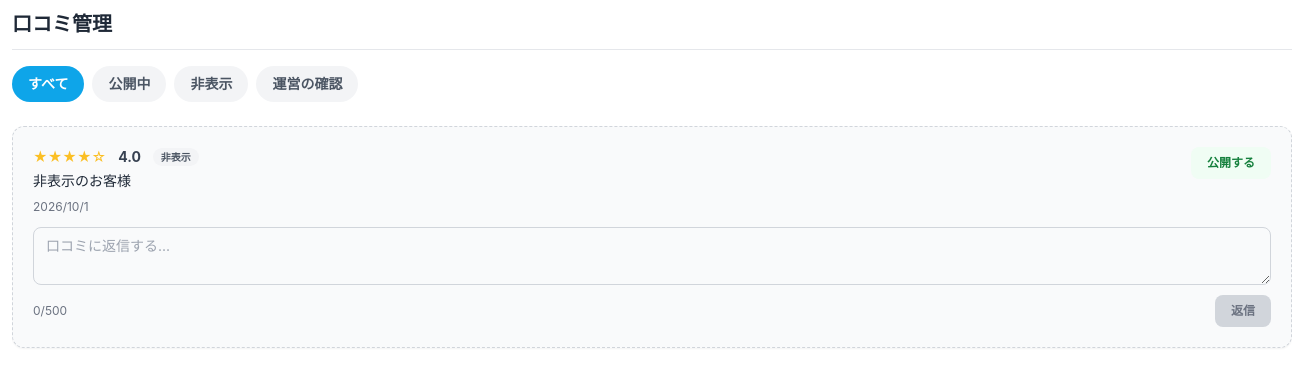
公開・非表示の切り替え › 公開すると読み直し、運営の審査が始まっていなければ『公開しました』
What coordinates should you click on to do the following:
click the button "公開する"
I would click on:
 (1231, 163)
Its box is [1191,147,1271,179].
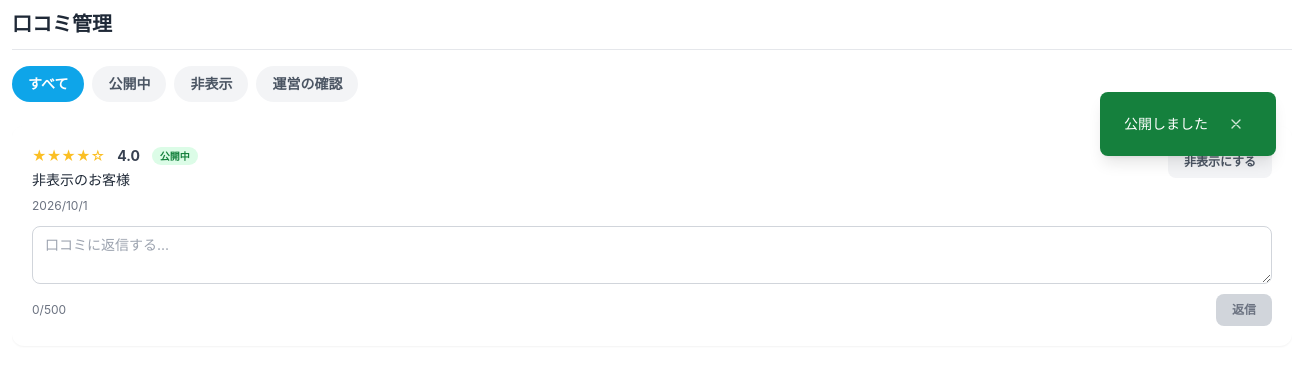
Expected: the text "公開しました" is shown, [1124,114,1208,134]
Expected: the text "公開中" is shown, [152,147,198,165]
